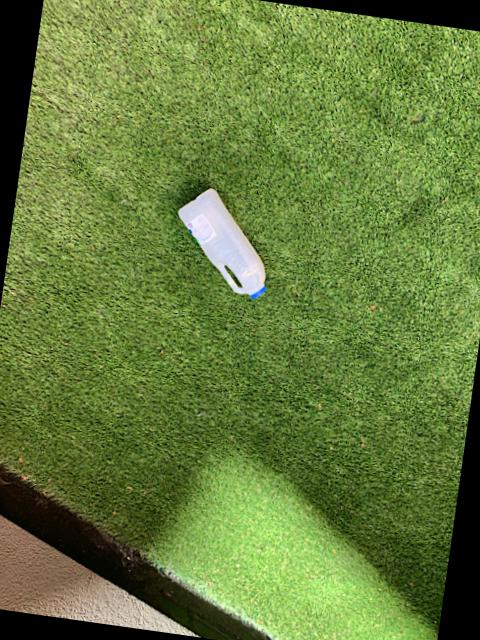plastic: (180, 190, 266, 299)
